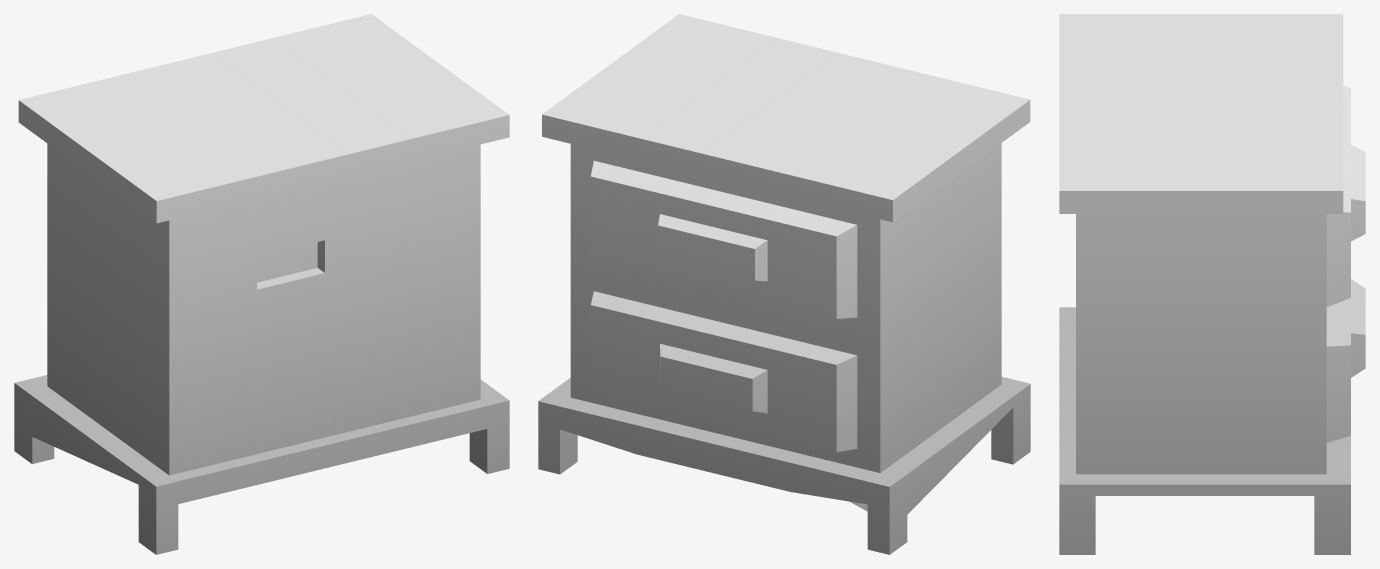
The model's file is Nightstand.fbx.
3 renders of one model, left to right at view 1: azimuth 30°, elevation 25°; view 2: azimuth 150°, elevation 25°; view 3: azimuth 270°, elevation 25°, orthographic. The views are drawn at different scales.
Parts seen in each view (by area): view 1: pCube6; view 2: pCube6; view 3: pCube6.
Boxes of the visible parts, <box> form: pCube6: <box>14,14,509,554</box>; pCube6: <box>538,14,1030,554</box>; pCube6: <box>1059,14,1365,554</box>.
Size of the model in its own units: 8.23 by 7.87 by 6.01.
